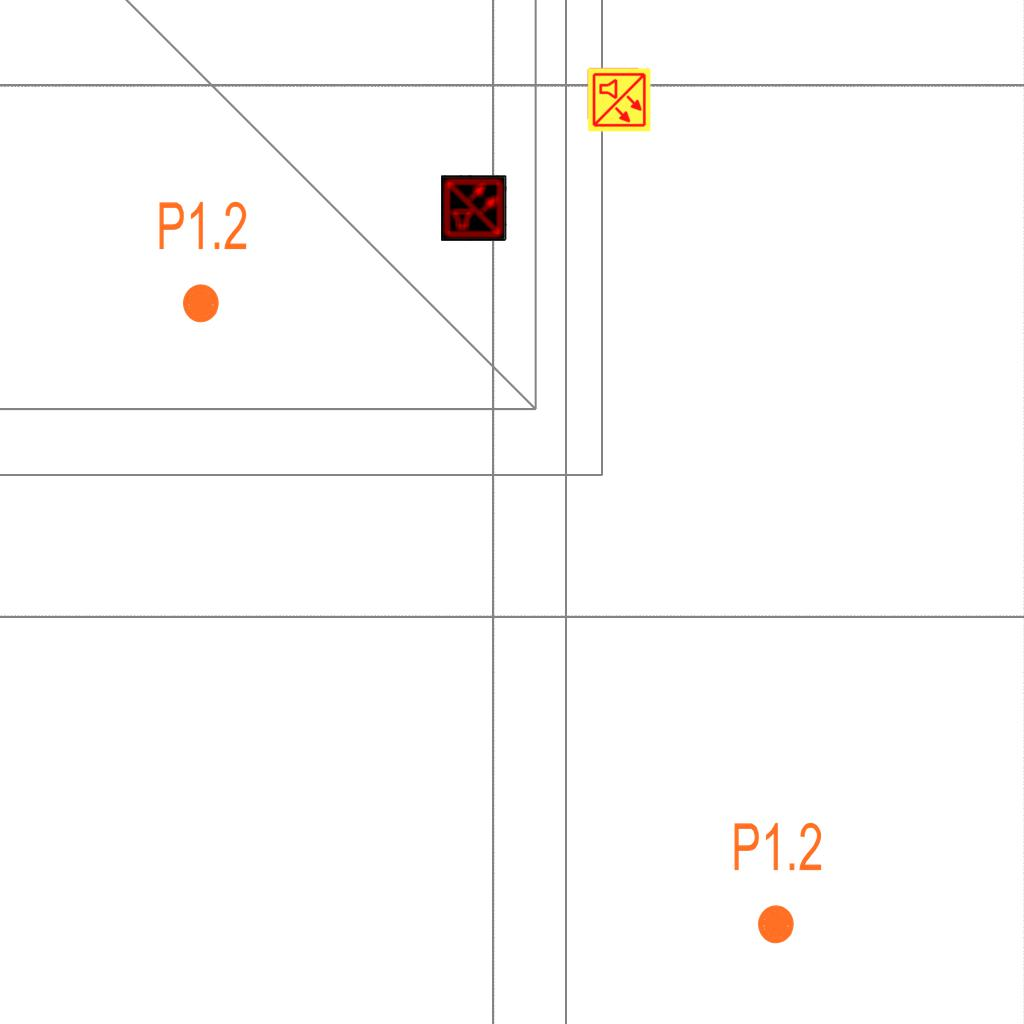Downlight_LED_Einbauleuchten_Flur: (156, 198, 249, 326), (731, 819, 824, 947)
OKW_Multisensormelder_(Kombination_optischer_Rauch-Kahlenmonoxid_Waerme-Melder): (586, 67, 652, 133), (441, 175, 507, 241)
